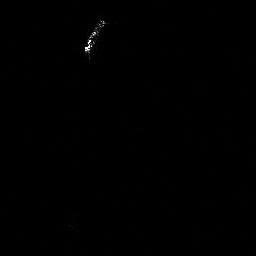ship: (83, 18, 107, 59)
